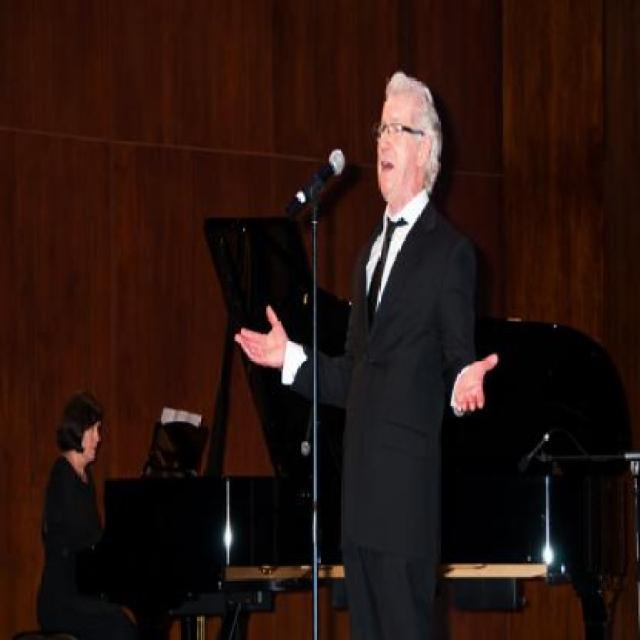obstacle: (234, 78, 501, 639), (38, 379, 110, 623)
